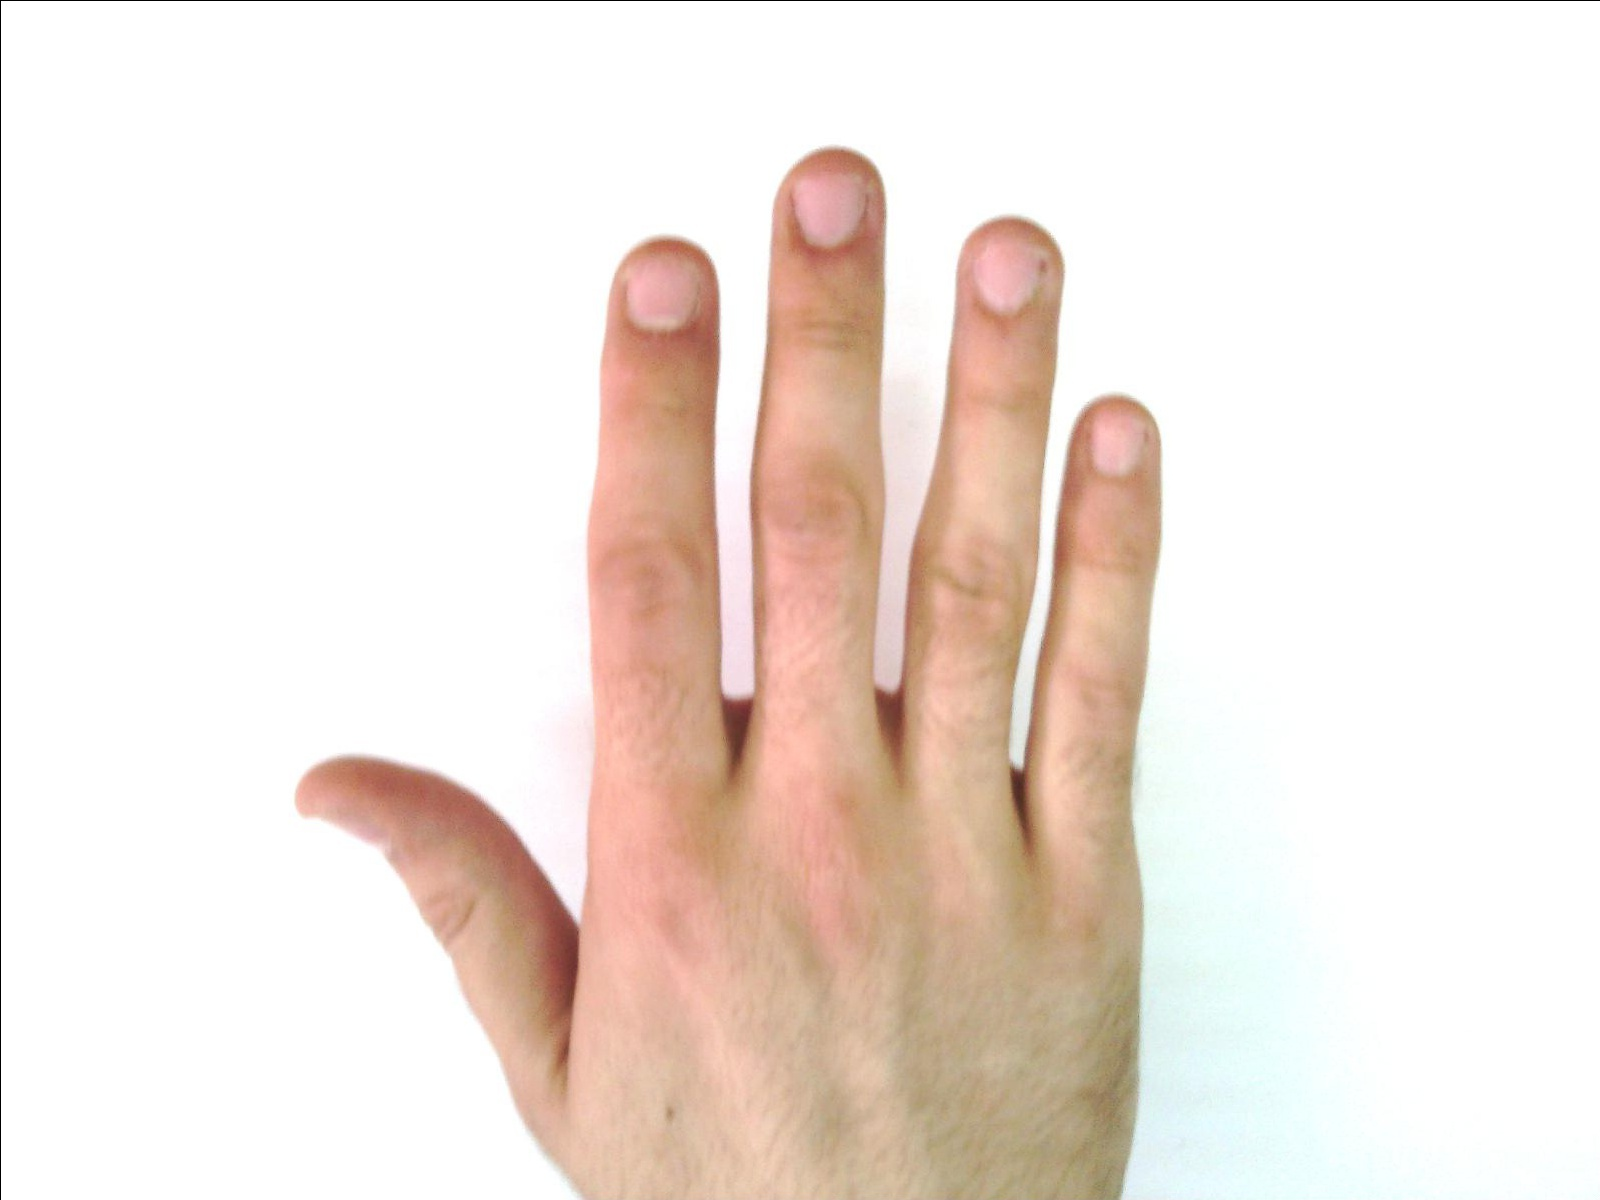5-hand: (299, 142, 1162, 1200)
